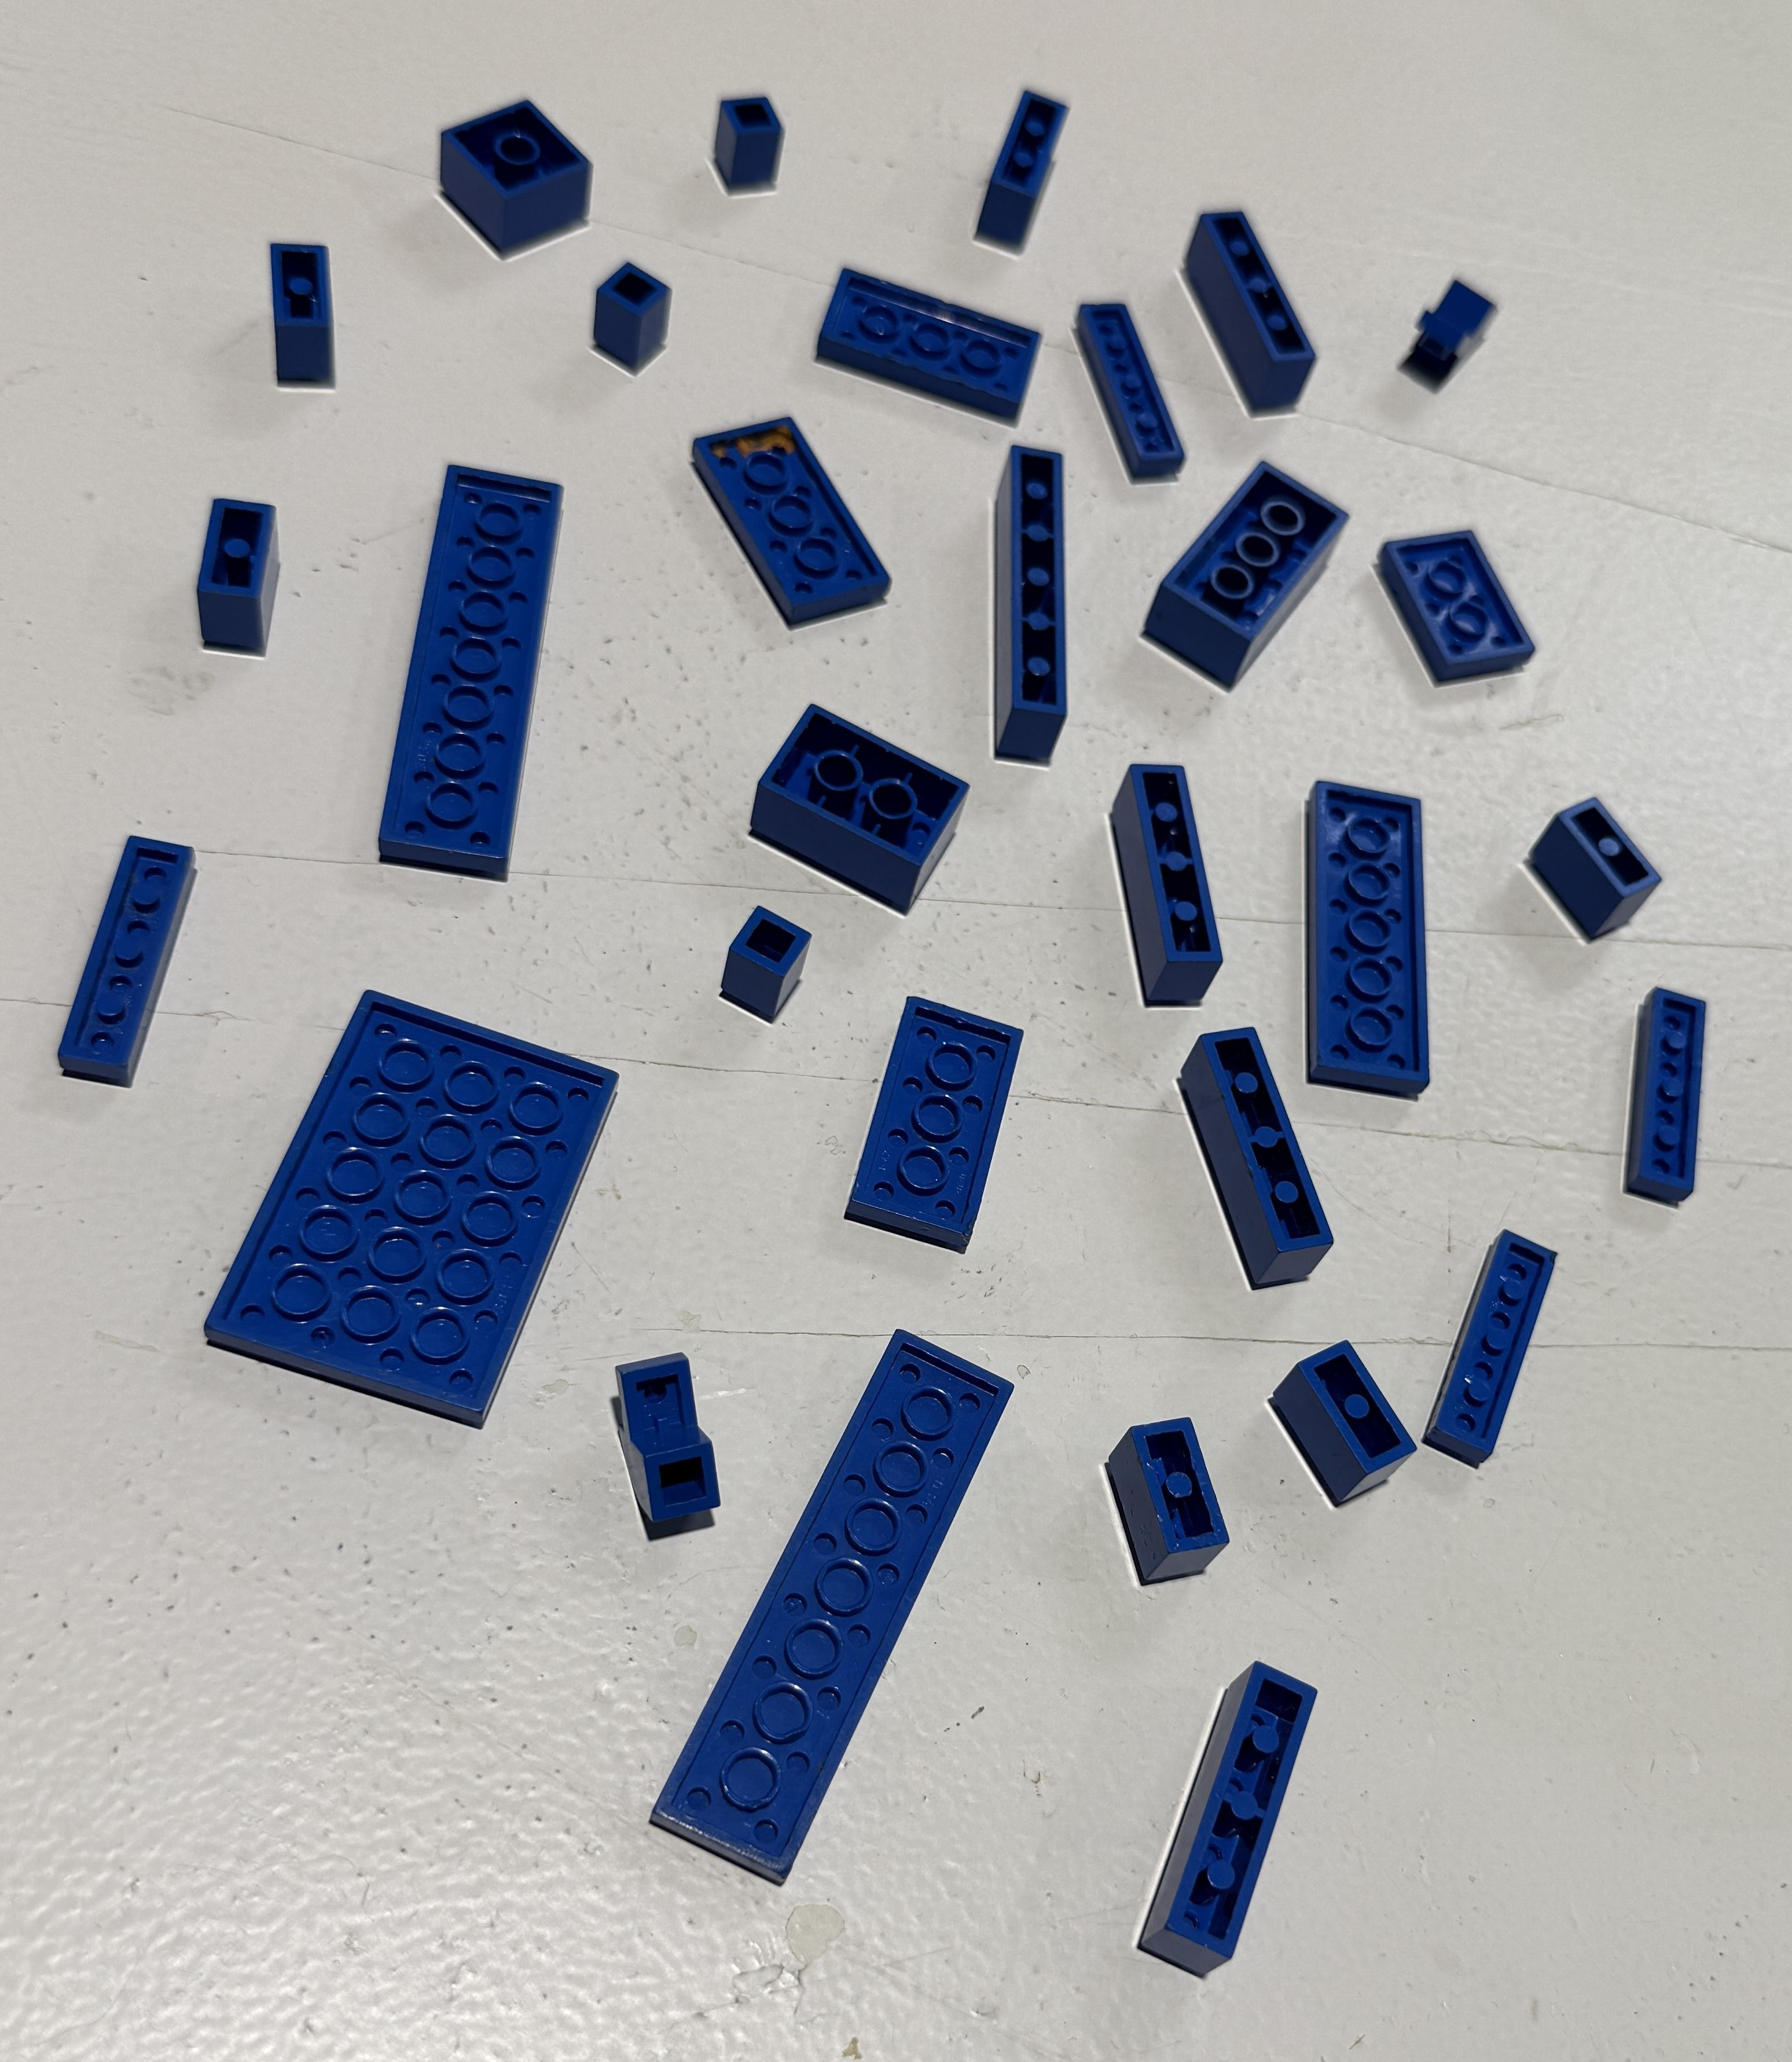brick_1x1: (568, 242, 708, 405), (691, 60, 819, 233), (698, 896, 831, 1045)
brick_1x2: (1511, 764, 1701, 982), (1085, 1394, 1259, 1610), (1264, 1315, 1427, 1531), (240, 212, 382, 435), (161, 475, 310, 675)
brick_1x3: (947, 74, 1089, 272)
brick_1x4: (1119, 1641, 1338, 2004), (1163, 1008, 1348, 1315), (1091, 733, 1236, 1029), (1163, 184, 1334, 435)
brick_2x2: (431, 65, 603, 279)
brick_2x3: (729, 689, 984, 919)
brick_2x4: (1122, 449, 1362, 714)
